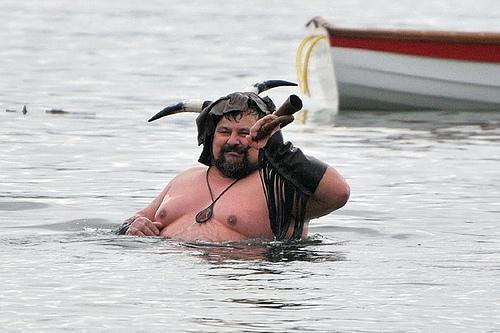swimmer: (126, 92, 350, 246)
